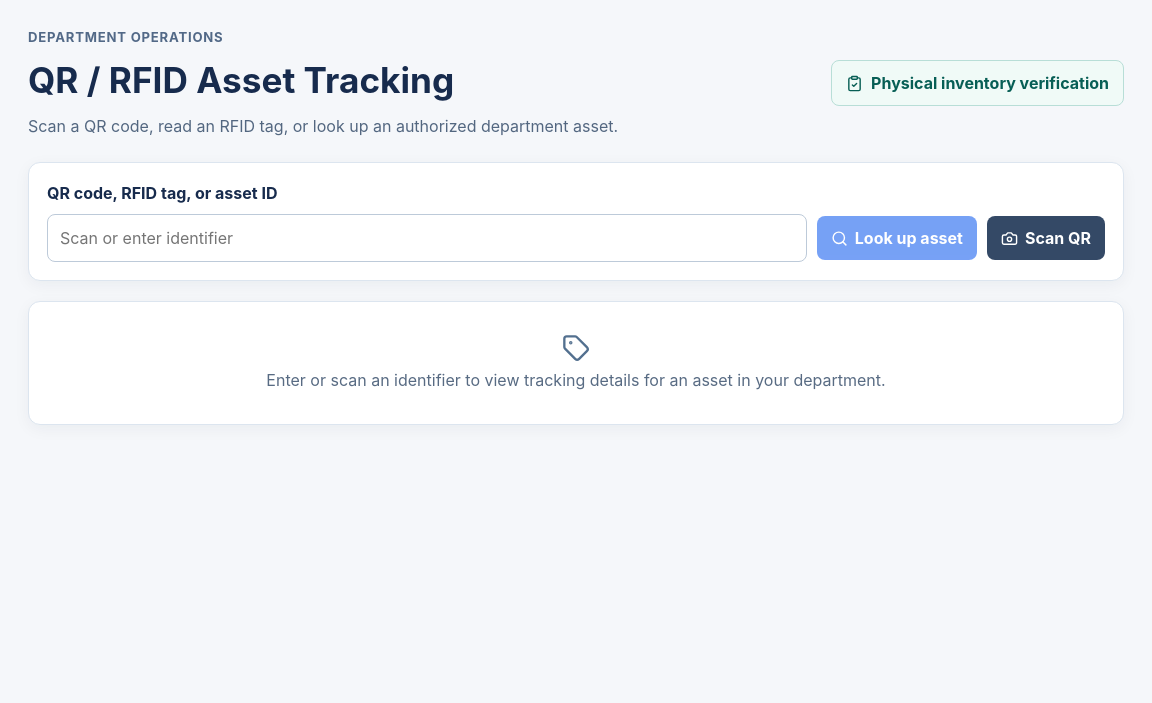
Test: camera QR scans use the authorized department lookup
Click the button "Scan QR" at (1046, 238), box top-left (987, 216), bottom-right (1105, 260)
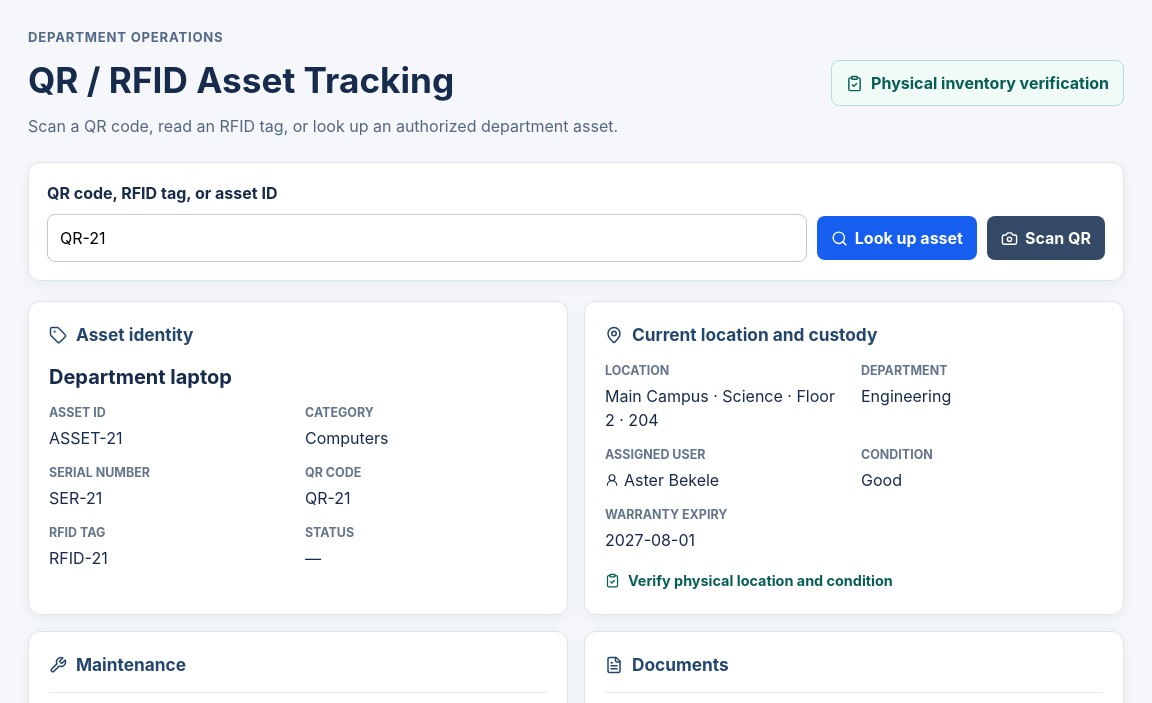
Result: the heading "Department laptop" is shown at top-left (49, 365), bottom-right (232, 389)
